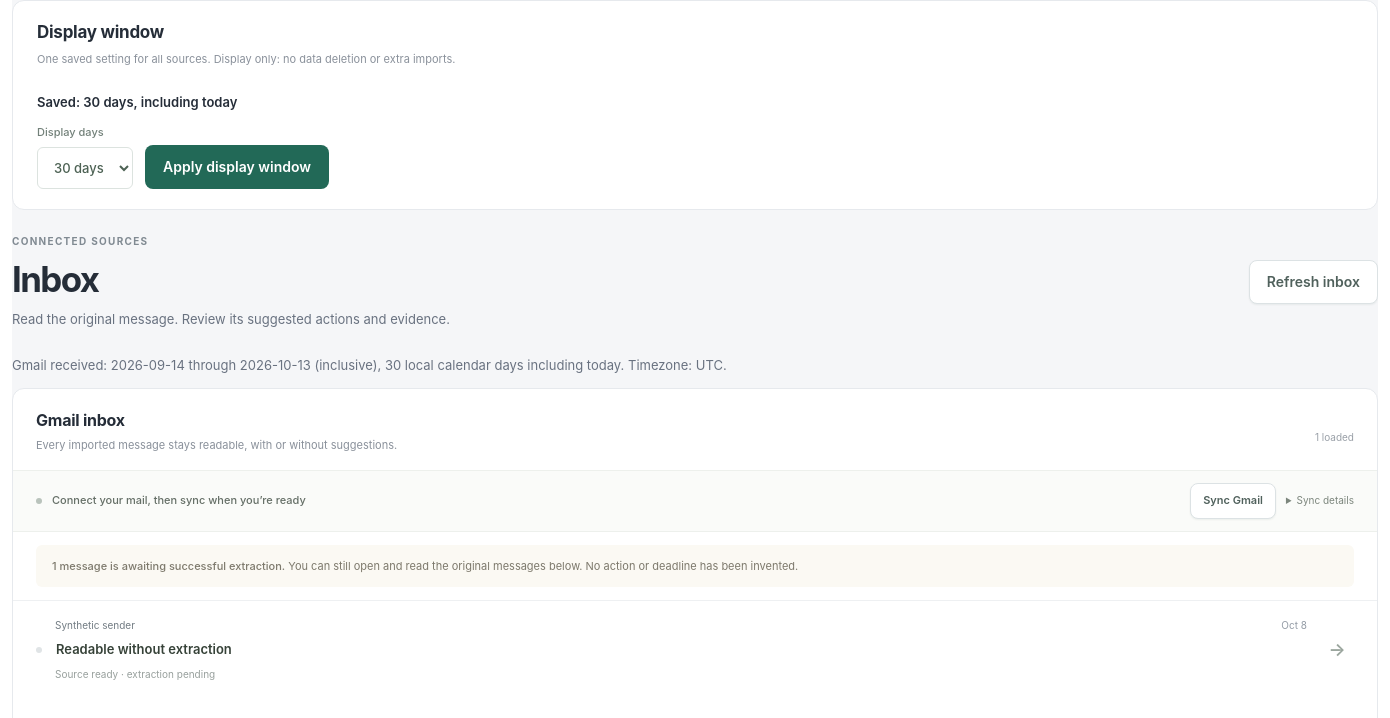
Test case: saved display window › does not change the active range or refetch lists on invalid or failed save
Expected: the button "Readable without extraction" is shown, [55,633,233,665]
Select "Custom" in the dropdown labelled "Display days" at (85, 168), box [37,147,133,189]
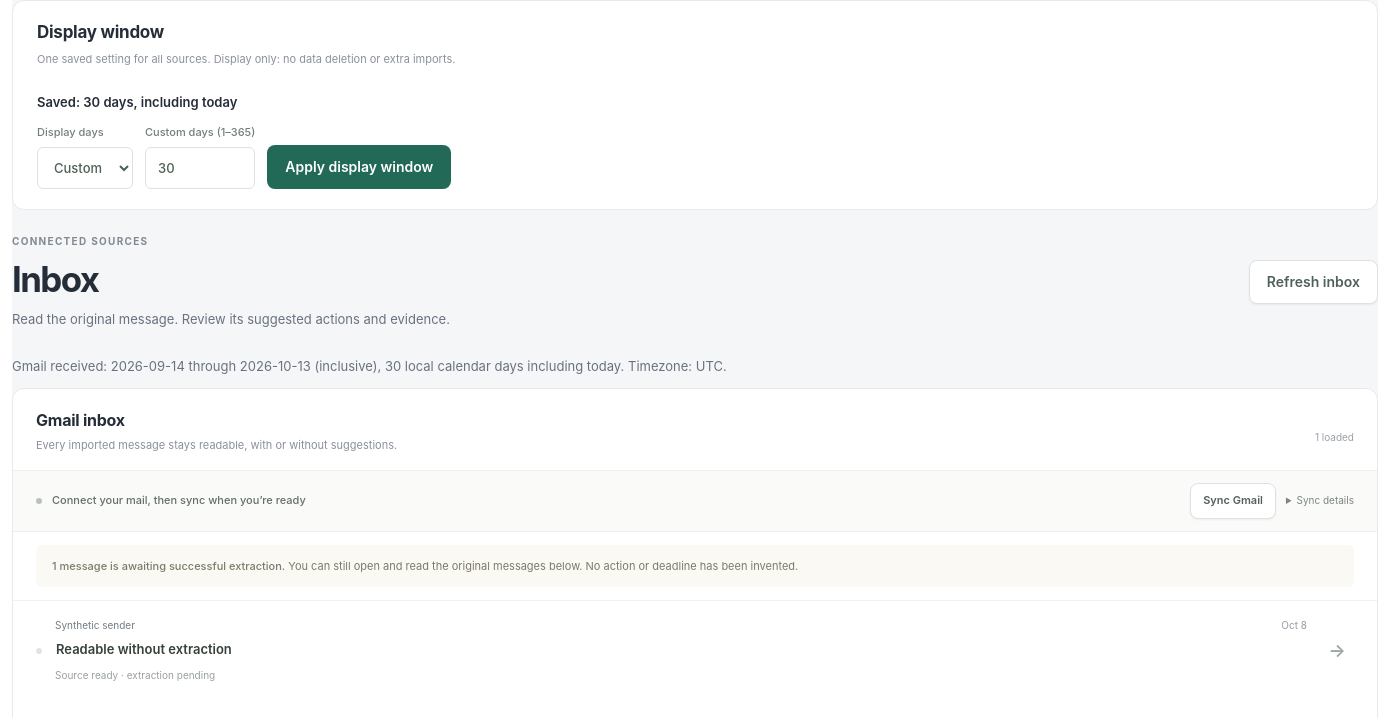
Replace the text in the number field labelled "Custom days (1–365)" with "366" at (200, 168), box [145,147,255,189]
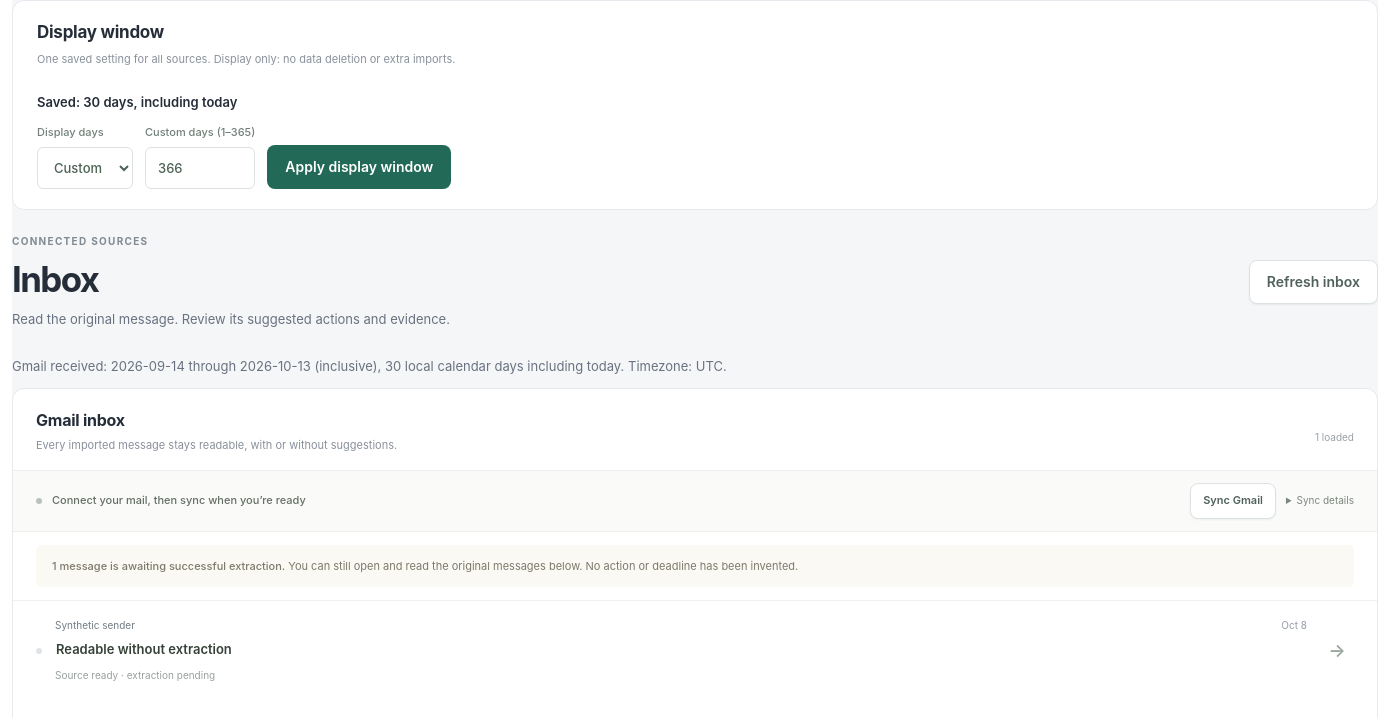
Submit the form named "Apply display window", box [37,94,451,189]
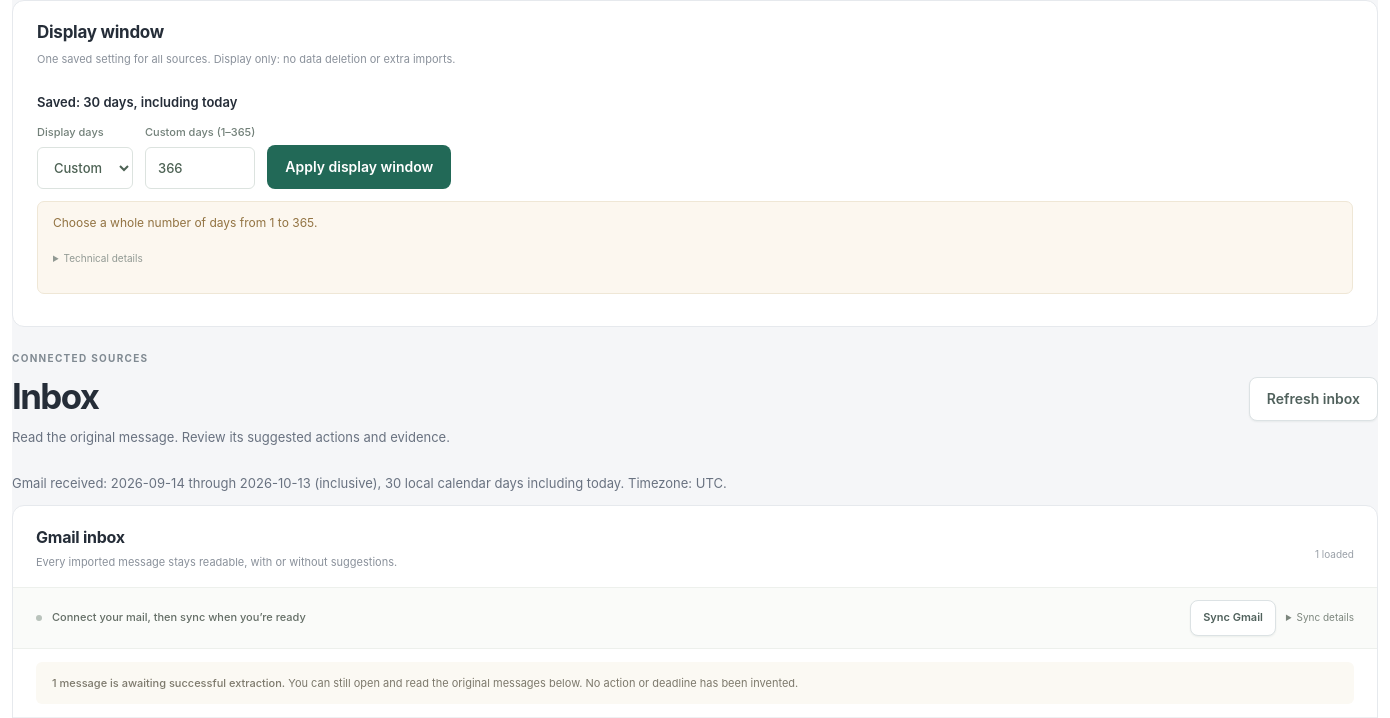
Expected: the text "Choose a whole number of days from 1 to 365." is shown, [53,215,317,230]
Replace the text in the number field labelled "Custom days (1–365)" with "8" at (200, 168), box [145,147,255,189]
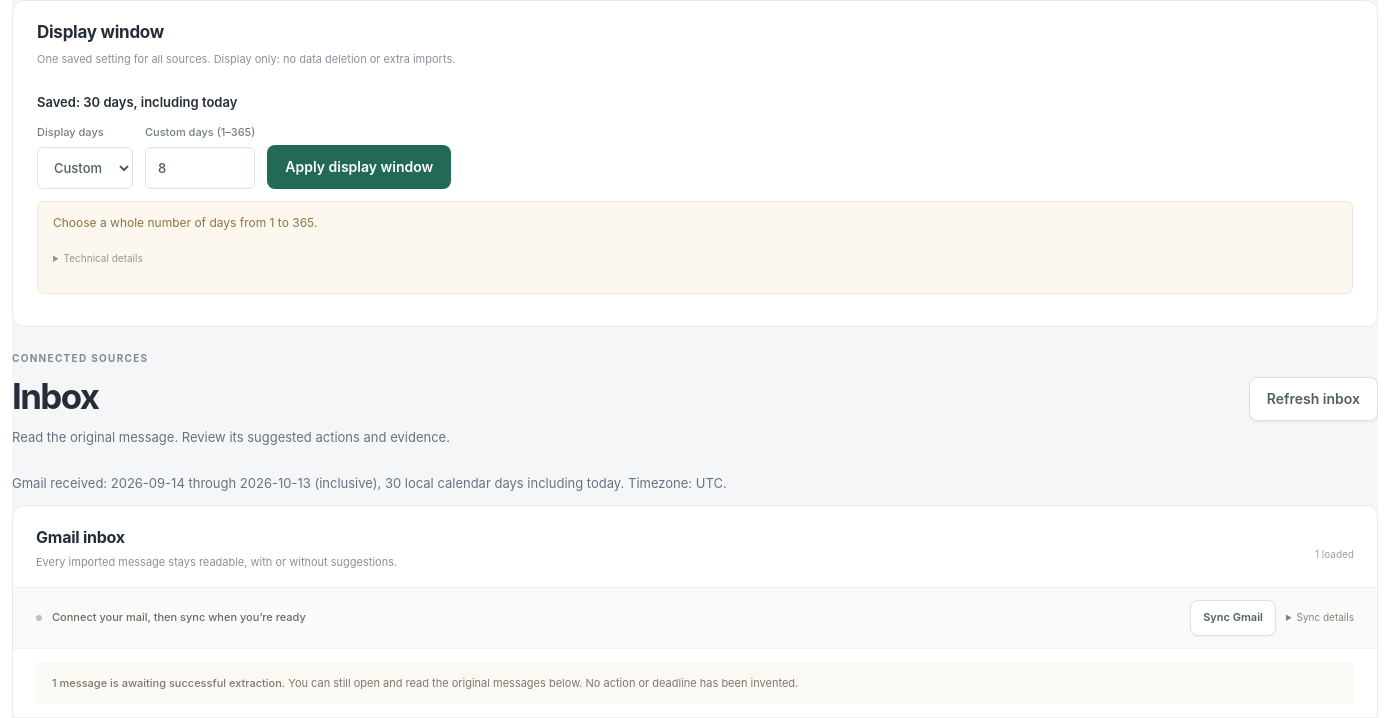
Click the button "Apply display window" at (359, 167), box [267,146,451,189]
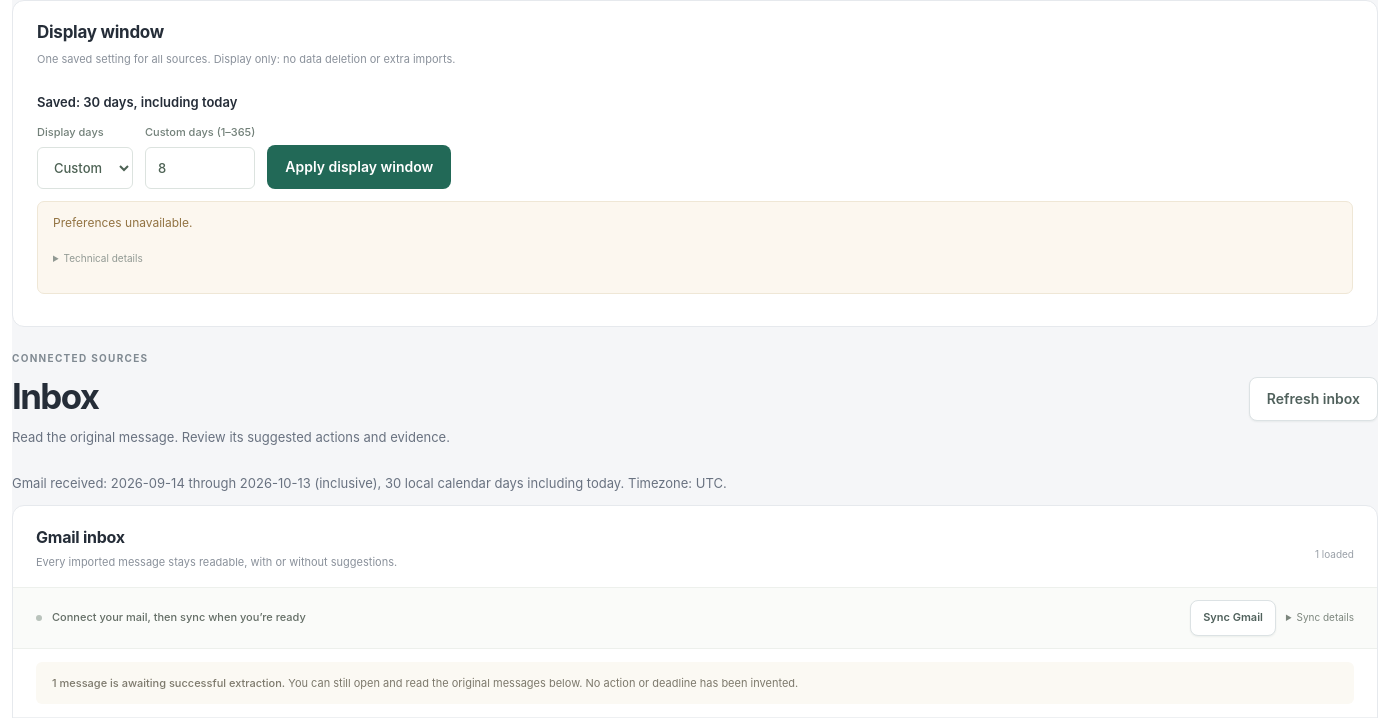
Expected: the text "Saved: 30 days, including today" is shown, [37,94,237,110]
Expected: the text "Preferences unavailable." is shown, [53,215,192,230]
Click the button "Apply display window" at (359, 167), box [267,146,451,189]
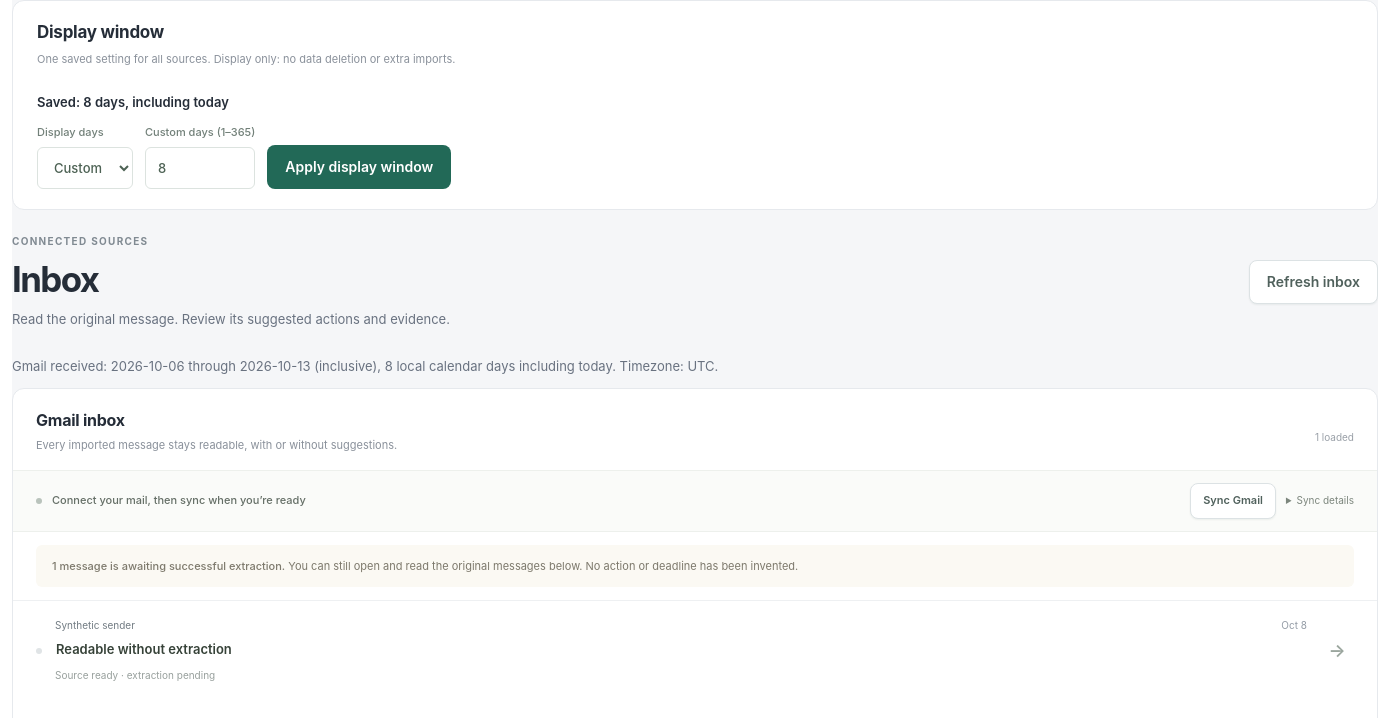
Expected: the text "Saved: 8 days, including today" is shown, [37,94,229,110]
